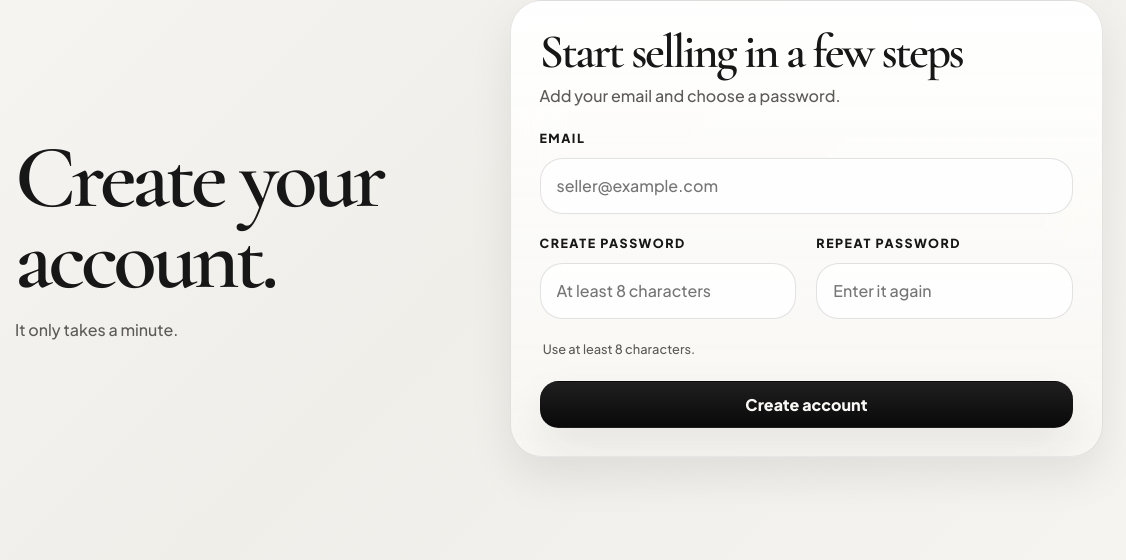
Test case: RegisterView › shows inline validation errors for email format and password length
Type "bad-email" into the field labelled "Email" at (806, 186), box [540,158,1073,214]
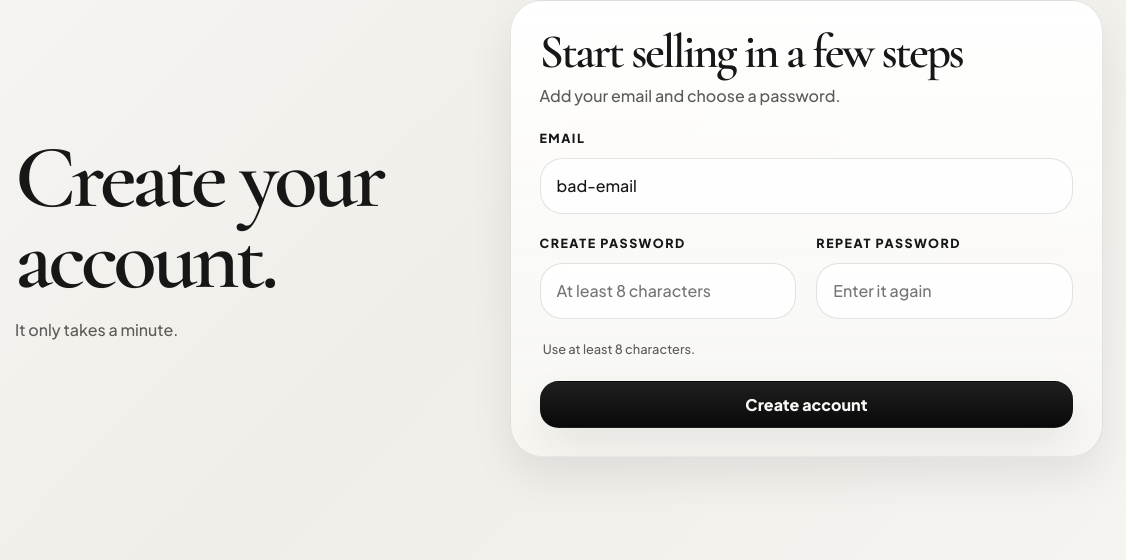
Type "short" into the password field labelled "Create password" at (668, 291), box [540,263,796,319]
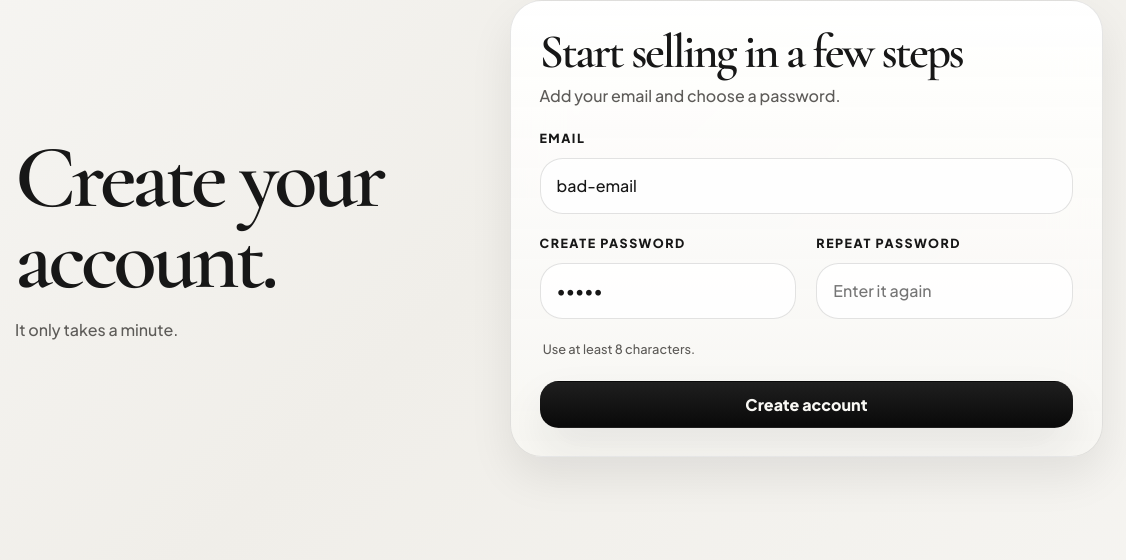
Type "short" into the password field labelled "Repeat password" at (945, 291), box [816,263,1073,319]
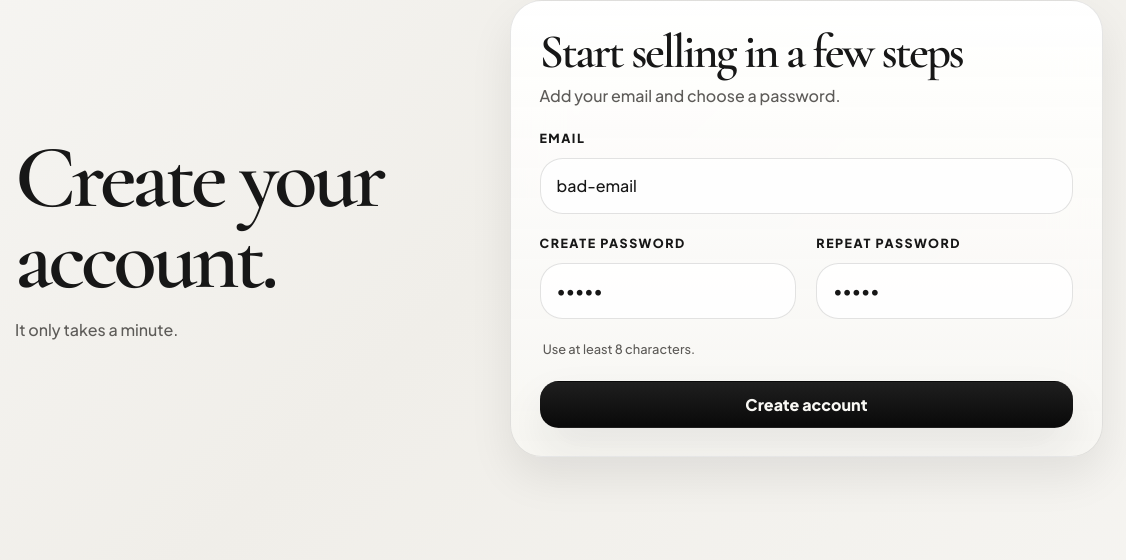
Submit the form, box [540,129,1073,428]
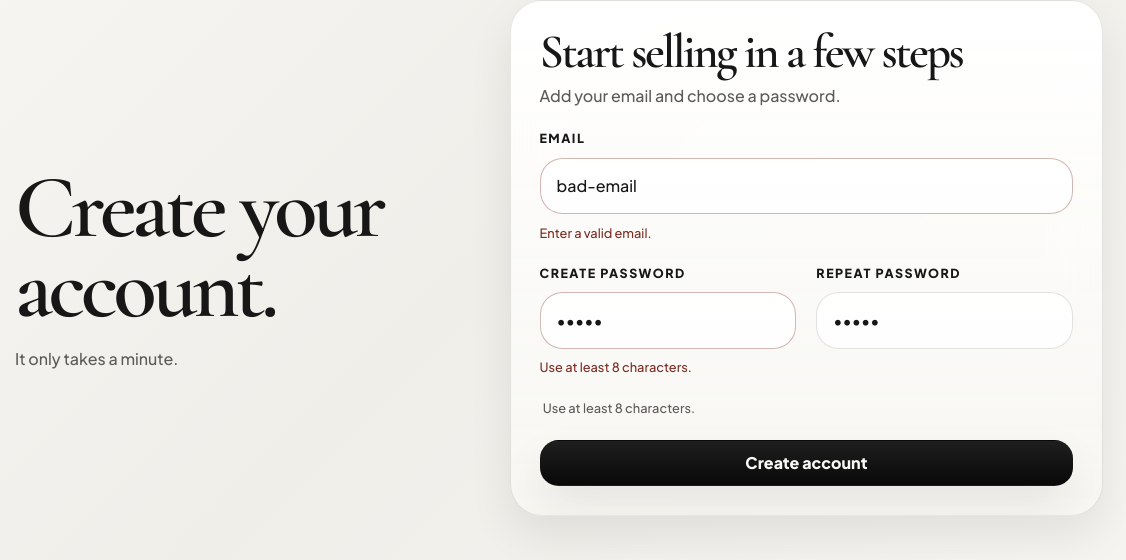
Expected: the text "Use at least 8 characters." is shown, [540,360,692,376]
Expected: the text "Enter a valid email." is shown, [540,225,652,241]
